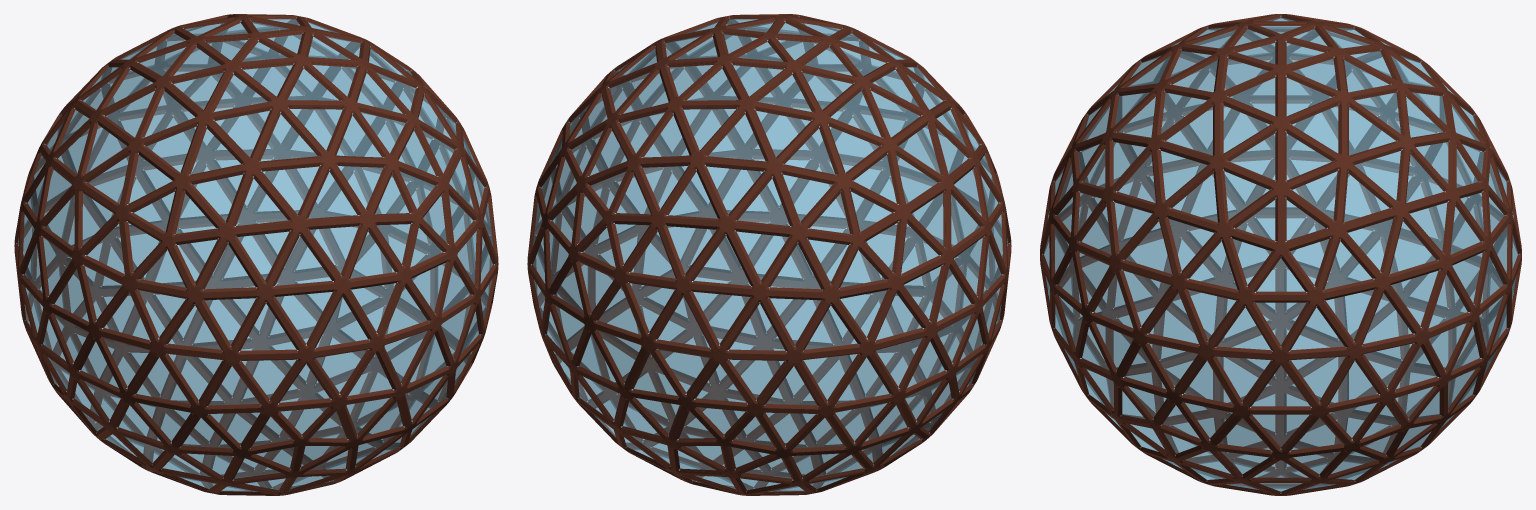
File: Dome.glb
3 renders of one model, left to right at view 1: azimuth 30°, elevation 25°; view 2: azimuth 150°, elevation 25°; view 3: azimuth 270°, elevation 25°, orthographic.
Parts seen in each view (by area): view 1: Icosphere; view 2: Icosphere; view 3: Icosphere.
Boxes of the visible parts, <box> form: Icosphere: <box>14,14,498,495</box>; Icosphere: <box>527,14,1011,495</box>; Icosphere: <box>1040,14,1521,495</box>.
Size of the model in its own units: 1.99 by 1.99 by 1.99.
